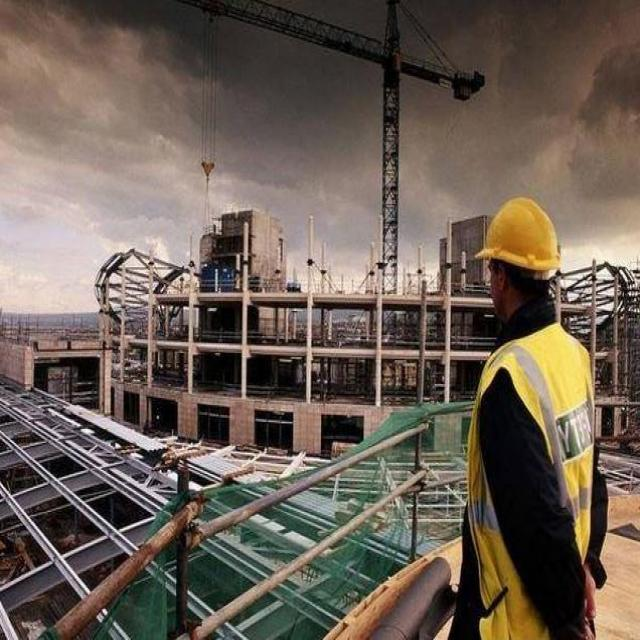Reflective-Jacket: (462, 315, 605, 637)
Safety-Helmet: (470, 186, 574, 286)
